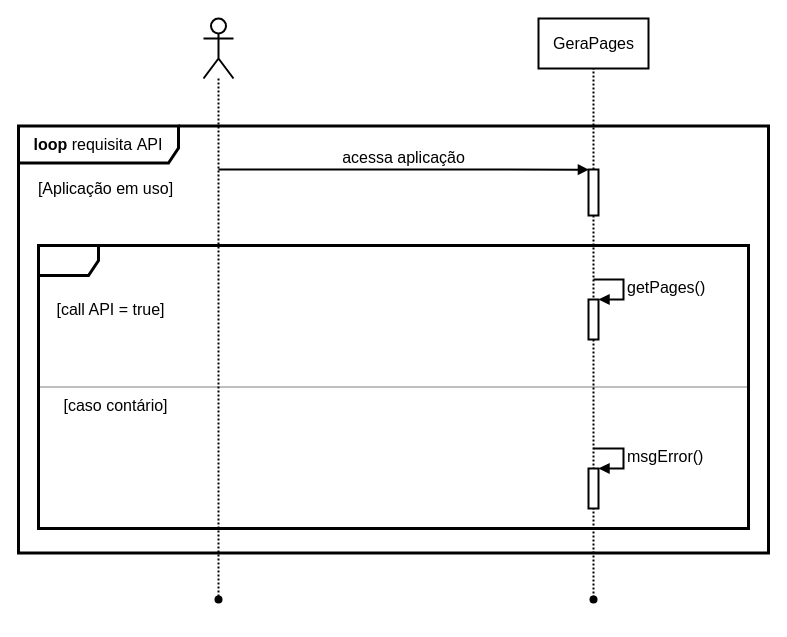
The diagram is 787 pixels wide and 637 high, and some of its shapes have lost their labels. Here are the shapes that lost their labels. From the top down, the box of each, then its label:
(202, 17, 234, 79): Usuário
(36, 244, 750, 530): alt
